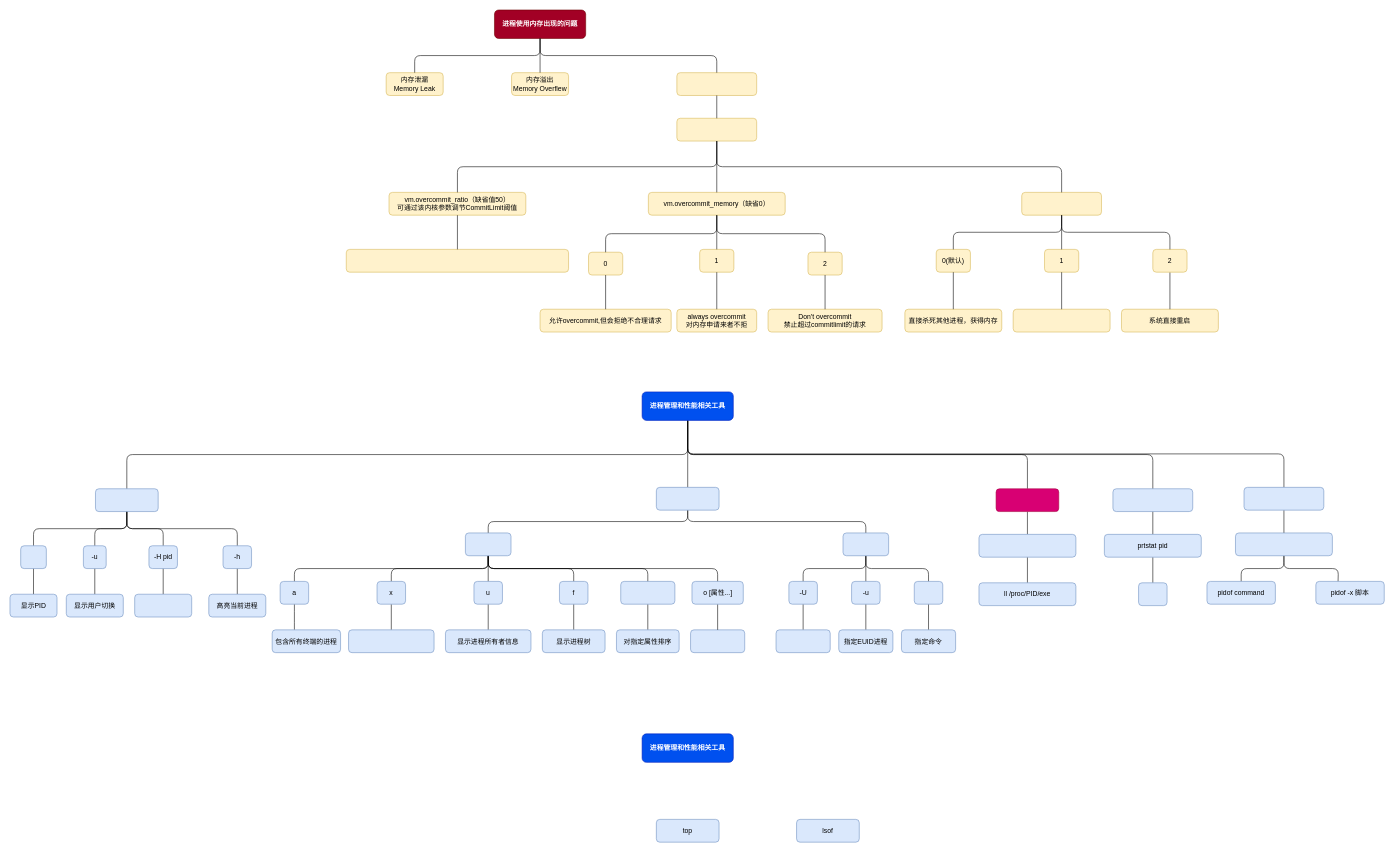
Image size: 1394x852. Some labels were removed from this diagram. The shapes that lost their labels are listed below. From the top down, each one's box as (x1, y1, x2, y2) in pixels, then its label:
(676, 72, 757, 95): 内存不足 OOM(out of memery)
(676, 118, 757, 141): 可调节的三个内核参数
(1021, 192, 1102, 215): vm.panic_on_oom
(346, 249, 569, 272): CommitLimit= (Physical RAM * vm.overcommit_ratio / 100) + Swap
(1013, 309, 1110, 332): 根据情况杀死进程或重启
(95, 488, 158, 512): 进程树 pstree
(656, 487, 719, 510): 进程信息ps
(996, 488, 1059, 512): 面试题
(1112, 488, 1193, 512): 显示进程信息 prtstat
(1243, 487, 1324, 510): pidof
(20, 545, 46, 569): -p
(465, 532, 511, 556): BSD风格
(842, 532, 889, 556): UNIX风格
(978, 534, 1076, 557): 找未知进程的执行文件路径
(1235, 532, 1332, 556): 查看进程编号
(134, 594, 192, 617): 高亮指定进程
(620, 581, 675, 604): k [+|-] <属性>
(914, 581, 943, 604): -C
(1138, 582, 1167, 606): -r
(348, 629, 434, 653): 包含不链接终端的进程
(690, 629, 745, 653): 显示指定属性
(775, 629, 830, 653): 指定RUID进程
